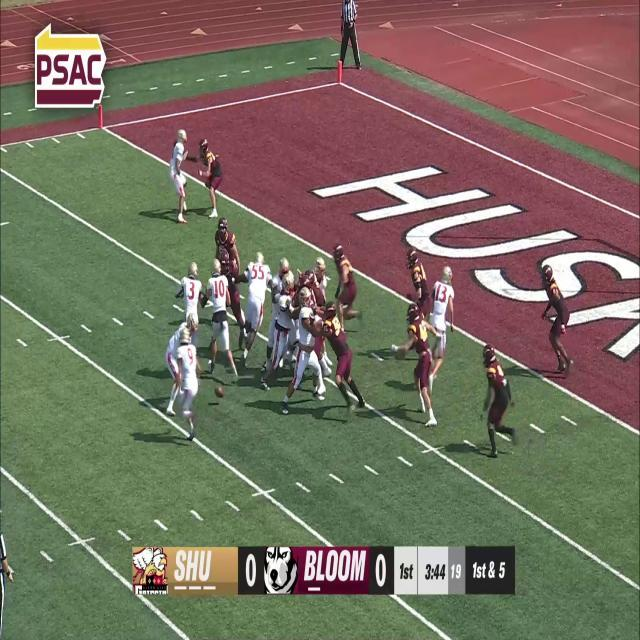football: (213, 382, 224, 400)
